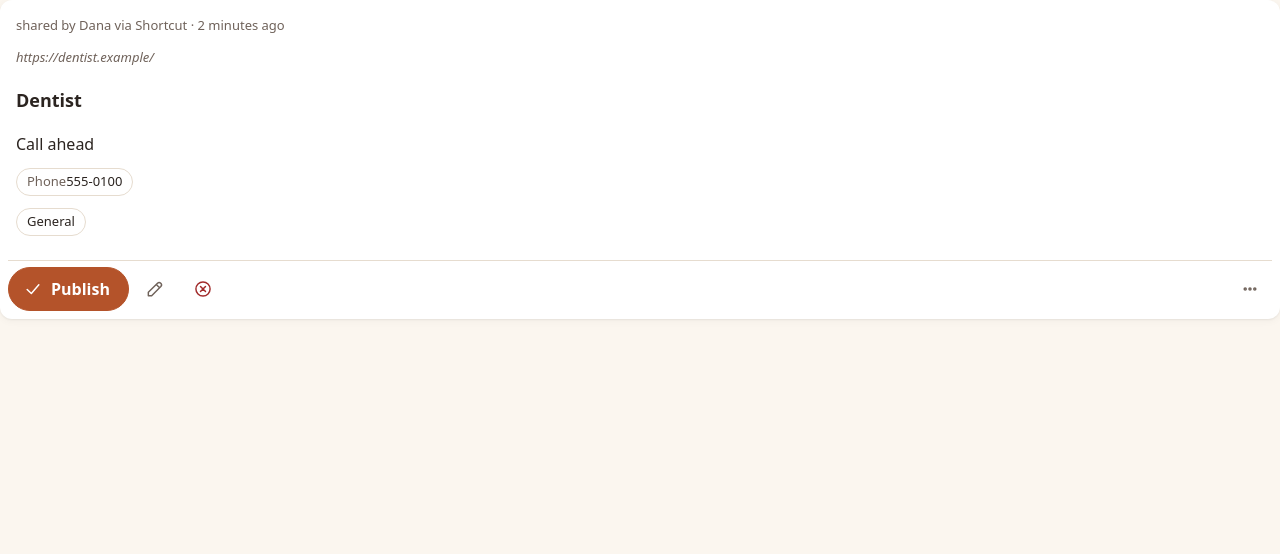
it: ReviewCard › saves only the edited fields, then leaves edit mode
Click the button named "Edit".
click(155, 288)  # box [133, 266, 177, 310]
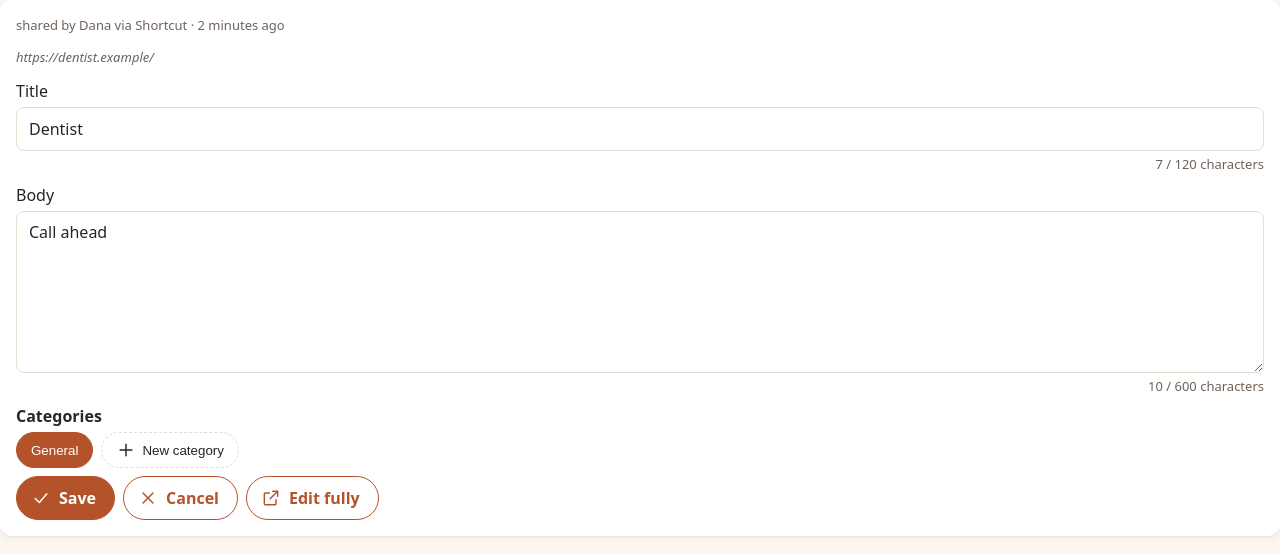
Replace the text in the field labelled "Title" with "Dentist Dr. Levi" at (640, 129), box [16, 107, 1264, 151]
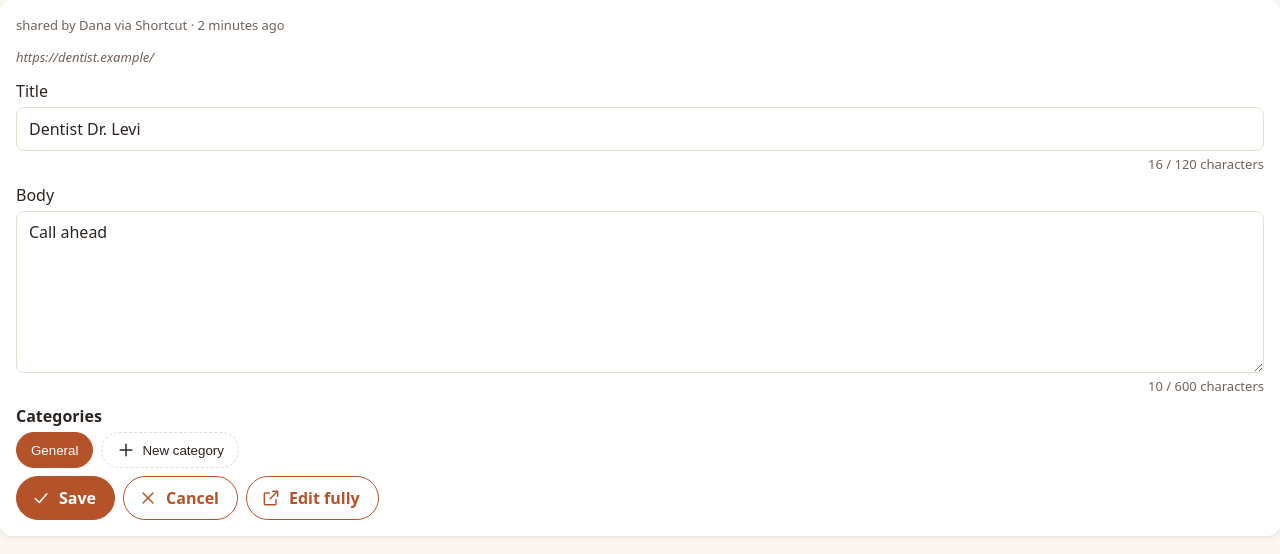
Click the button "Save".
click(66, 498)  # box [16, 476, 115, 520]
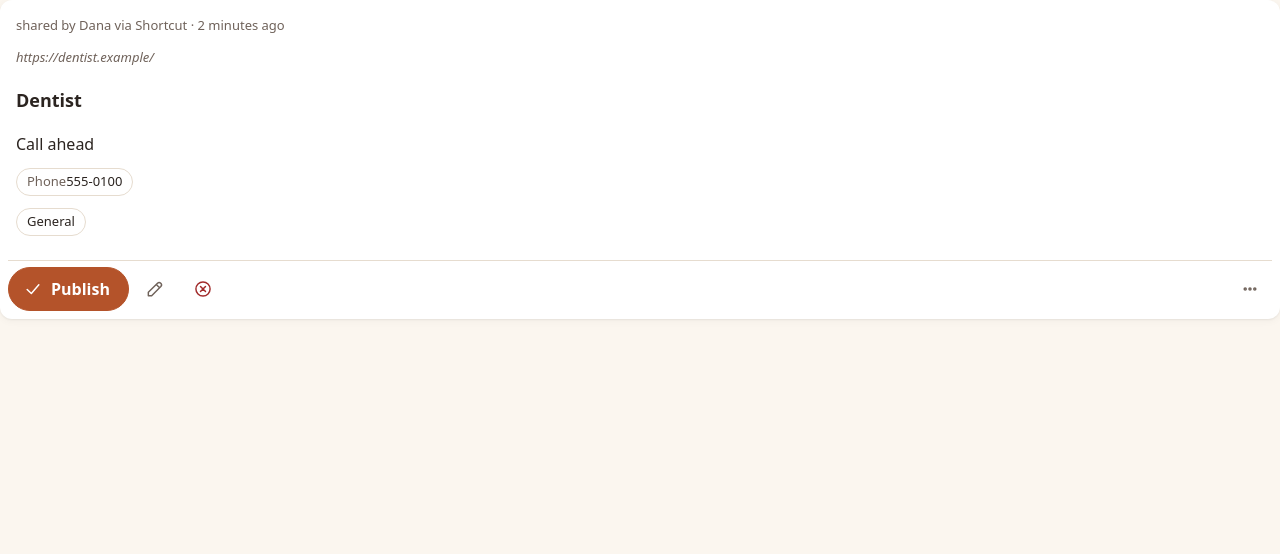
Result: the button "Save" is gone
